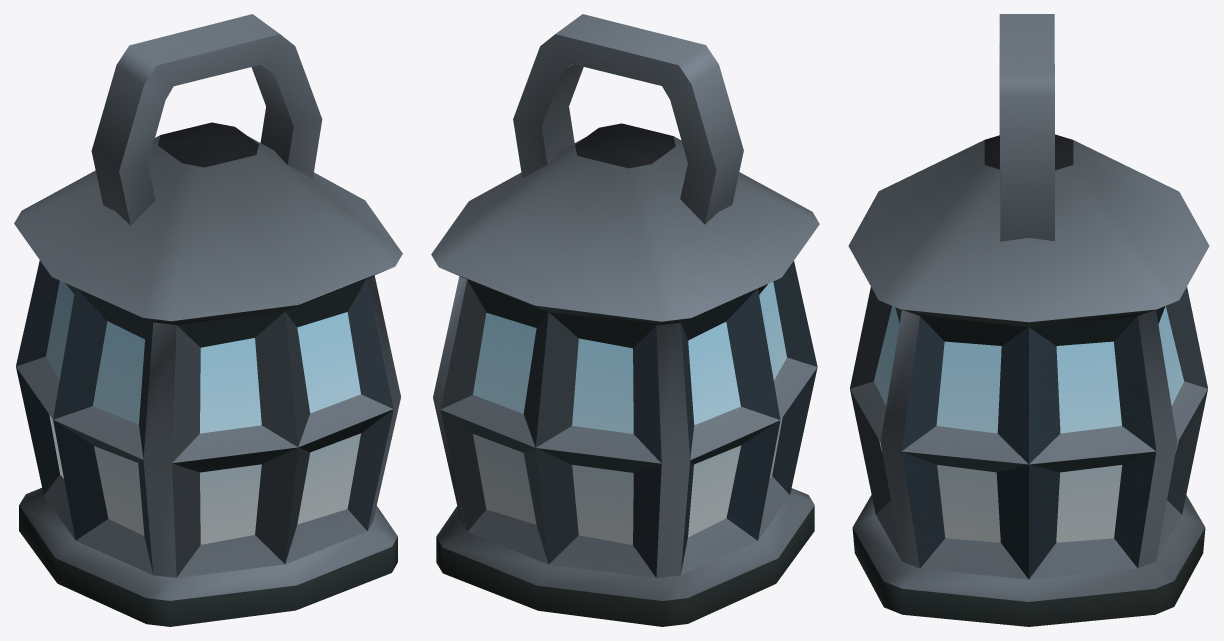
Rendered from lantern_off.fbx.
The picture shows the model from 3 angles, left to right: view 1: azimuth 30°, elevation 25°; view 2: azimuth 150°, elevation 25°; view 3: azimuth 270°, elevation 25°; orthographic projection.
Parts seen in each view (by area): view 1: lantern_off; view 2: lantern_off; view 3: lantern_off.
Part boxes in pixels (x1=…): lantern_off: x1=14, y1=14, x2=402, y2=626; lantern_off: x1=431, y1=14, x2=819, y2=626; lantern_off: x1=848, y1=14, x2=1209, y2=626.
Bounding box in the file's own units: 41.06 × 63.74 × 41.06.
